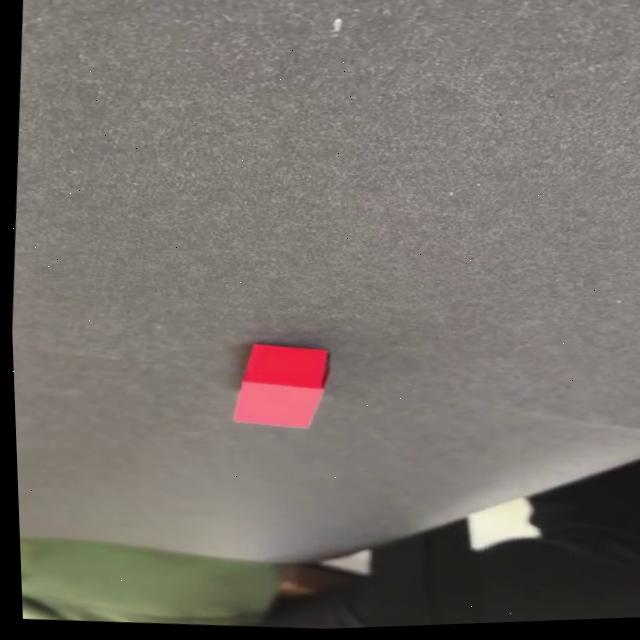red block: (227, 338, 334, 433)
